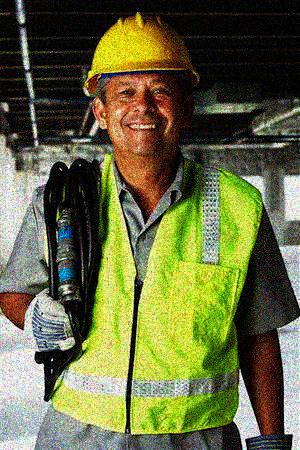helmet: (77, 9, 202, 158)
